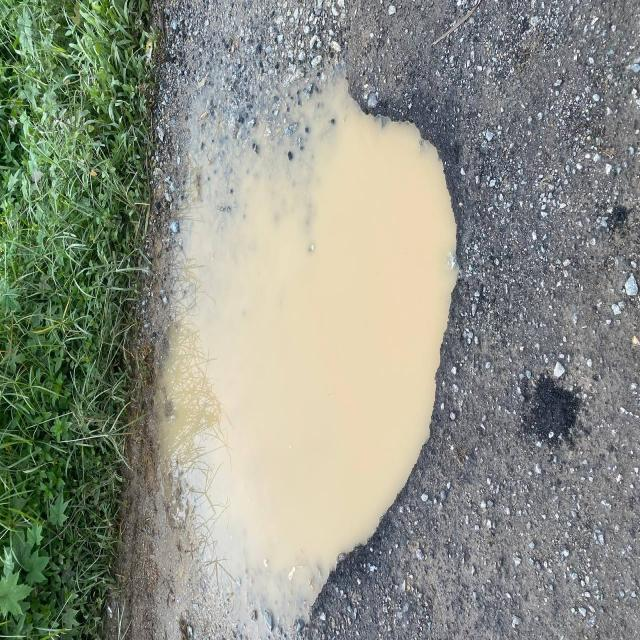Pothole: (277, 29, 517, 612)
